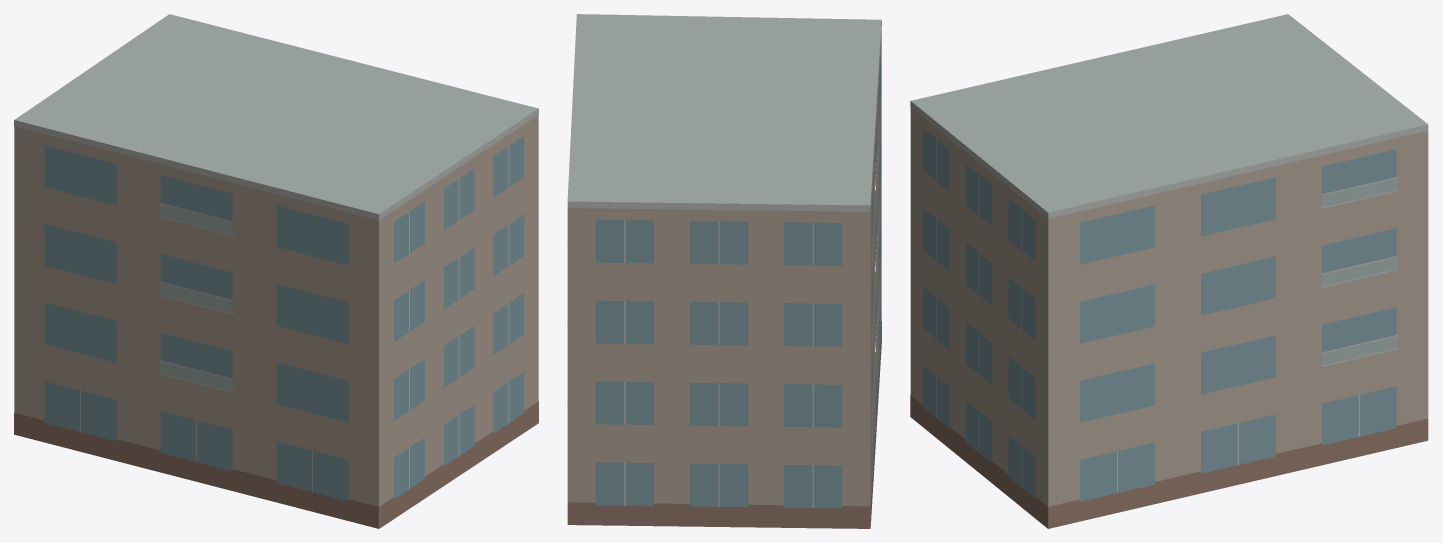
The model's file is survey-upis-32674433.glb.
3 renders of one model, left to right at view 1: azimuth 30°, elevation 25°; view 2: azimuth 150°, elevation 25°; view 3: azimuth 270°, elevation 25°, orthographic. The views are drawn at different scales.
Parts seen in each view (by area): view 1: survey-upis-32674433.tmp; view 2: survey-upis-32674433.tmp; view 3: survey-upis-32674433.tmp.
Boxes of the visible parts, bbox=[...] form: survey-upis-32674433.tmp: bbox=[14, 14, 538, 528]; survey-upis-32674433.tmp: bbox=[567, 14, 881, 528]; survey-upis-32674433.tmp: bbox=[910, 14, 1428, 528].
Size of the model in its own units: 16.59 by 12.3 by 18.27.
